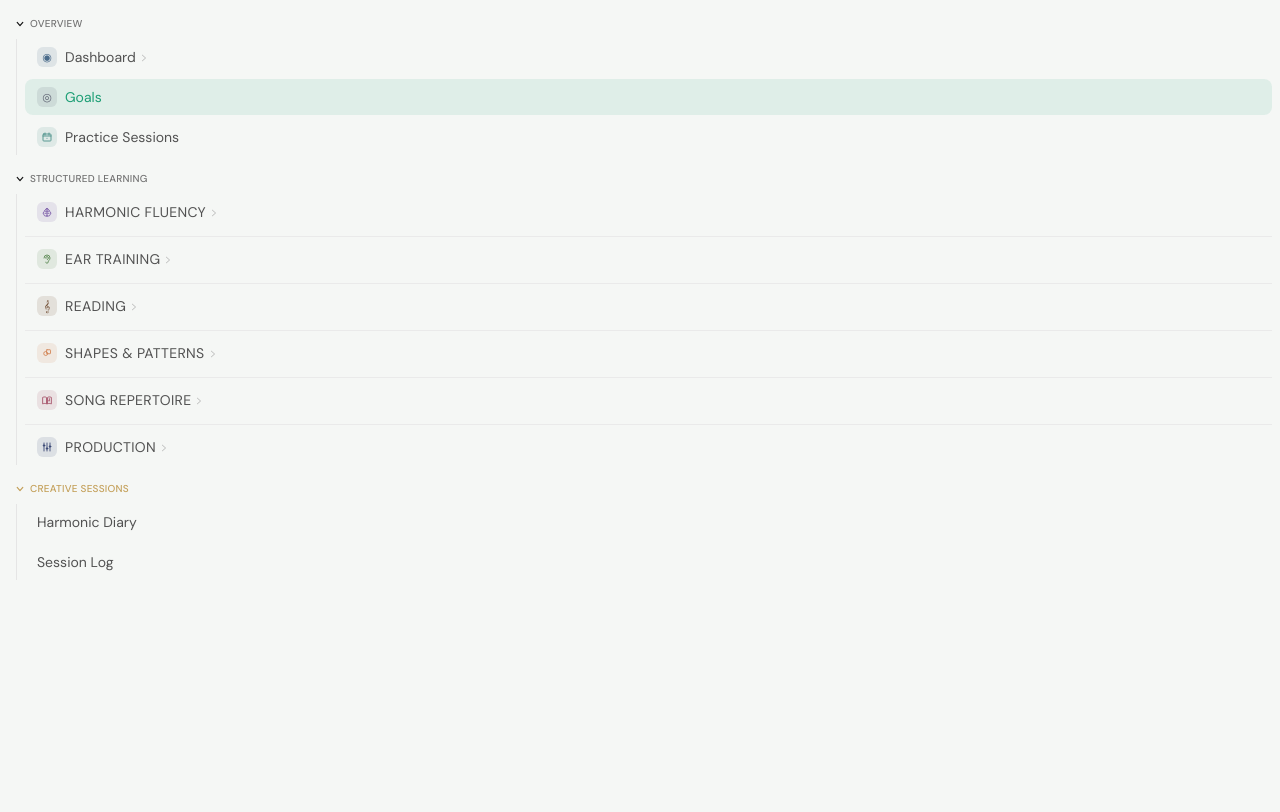
Scenario: collapse all › is not offered when there is nothing to fold
Click the link "𝄞 reading": (88, 306) [37,296,138,316]
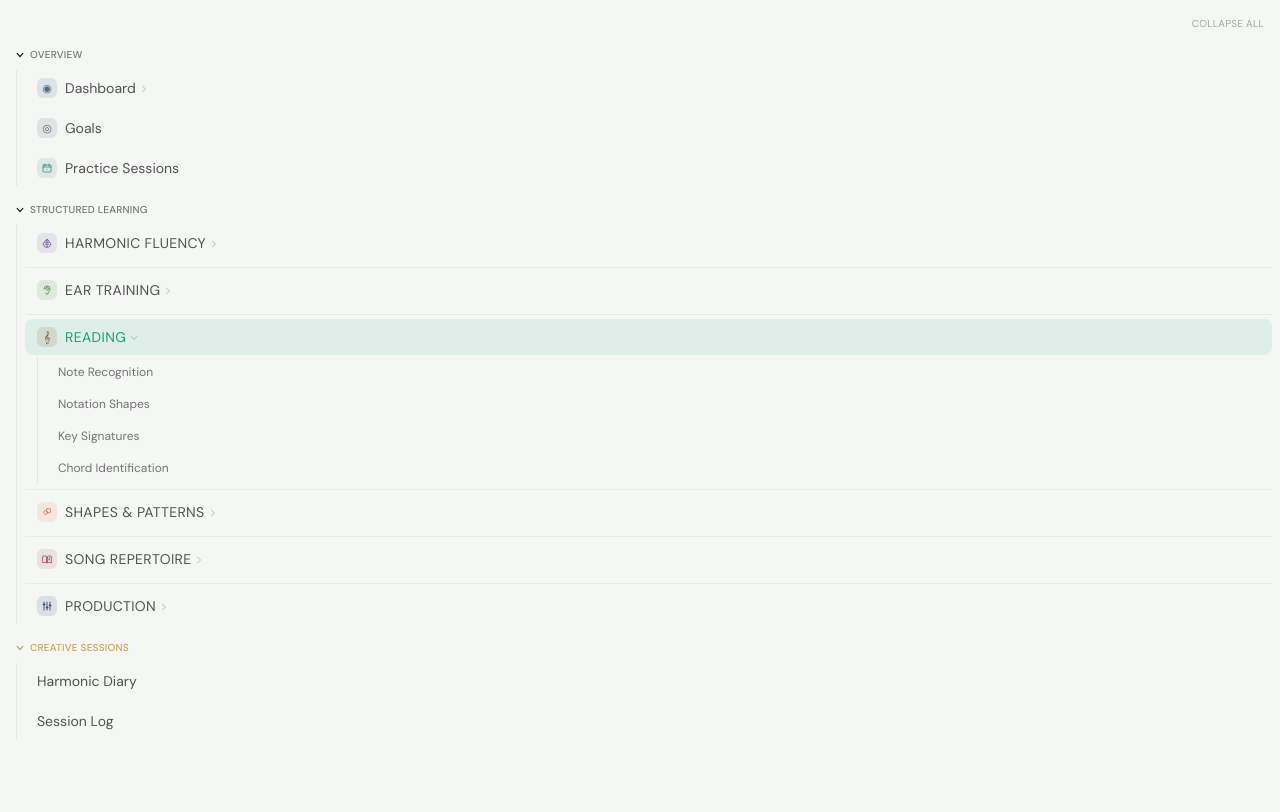
Now the button with test id "nav-collapse-all" is shown
Click the button with test id "nav-collapse-all": (1228, 24) [1184,12,1272,35]
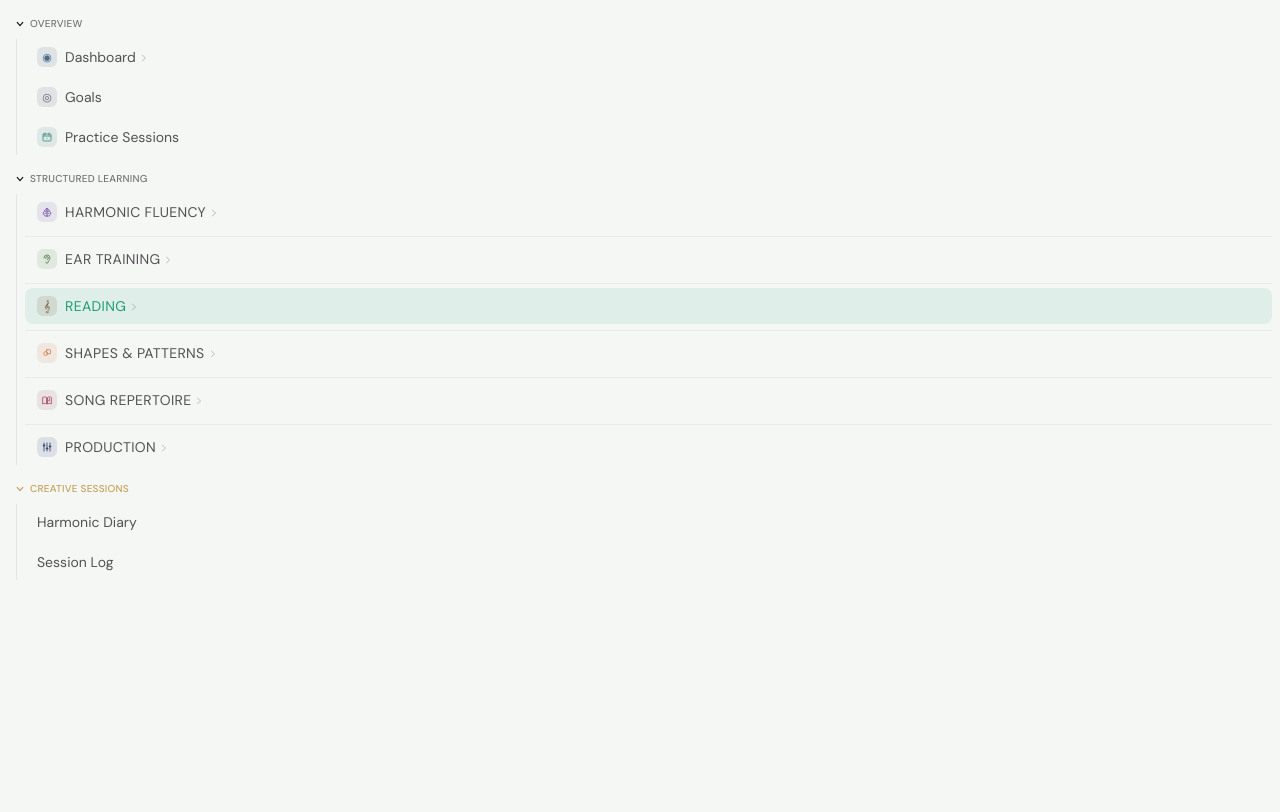
Now the button with test id "nav-collapse-all" is gone
